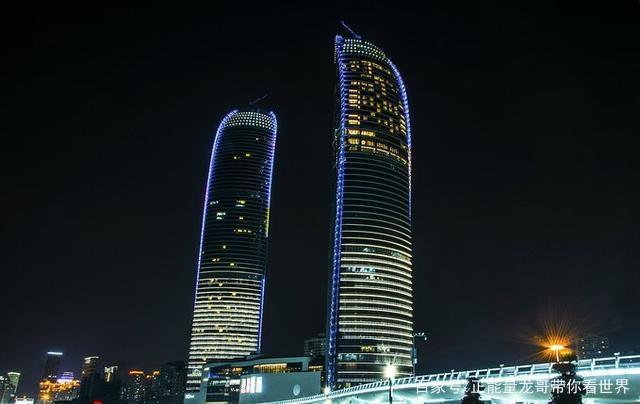buildings: (315, 13, 432, 397), (175, 76, 292, 390)
